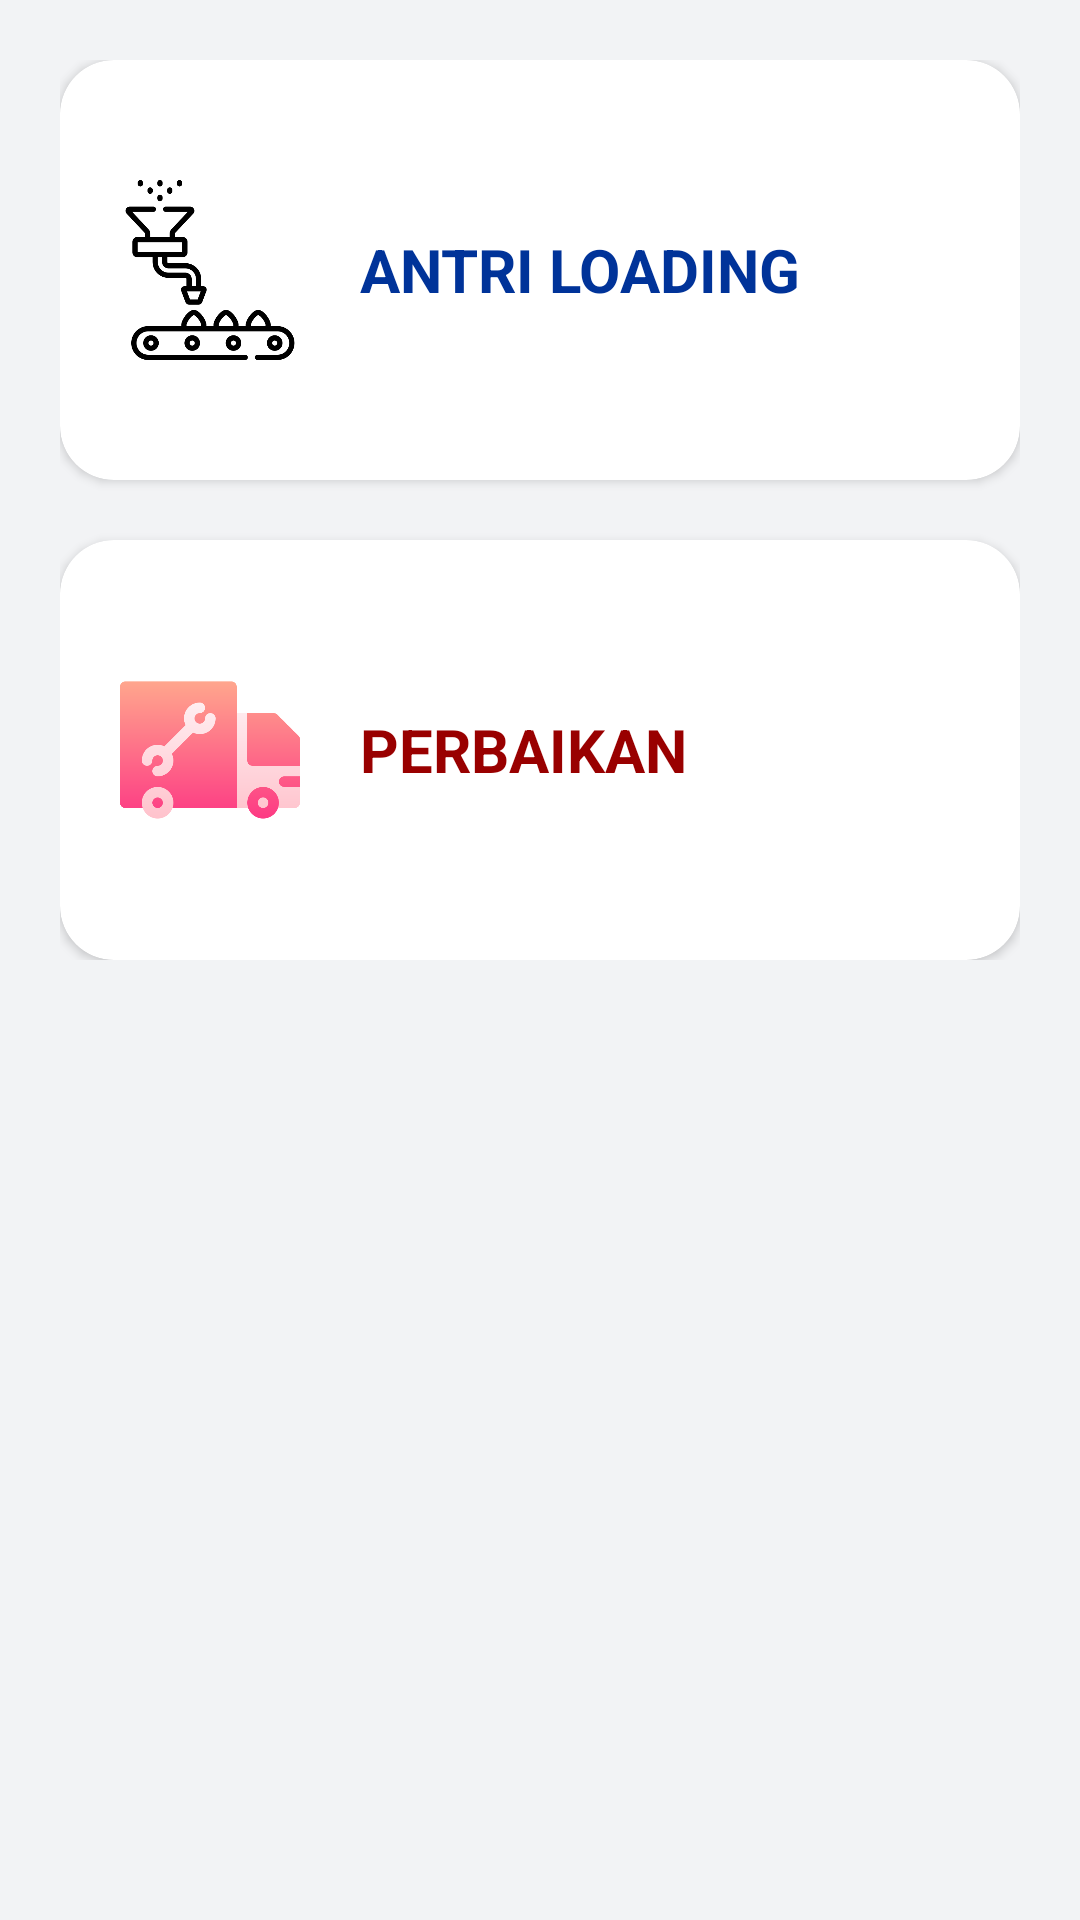

Icon bounding boxes for this 1080w x 1920h phone screenshot, format region(x1, y1, x2, y2):
repair: region(120, 681, 300, 819)
